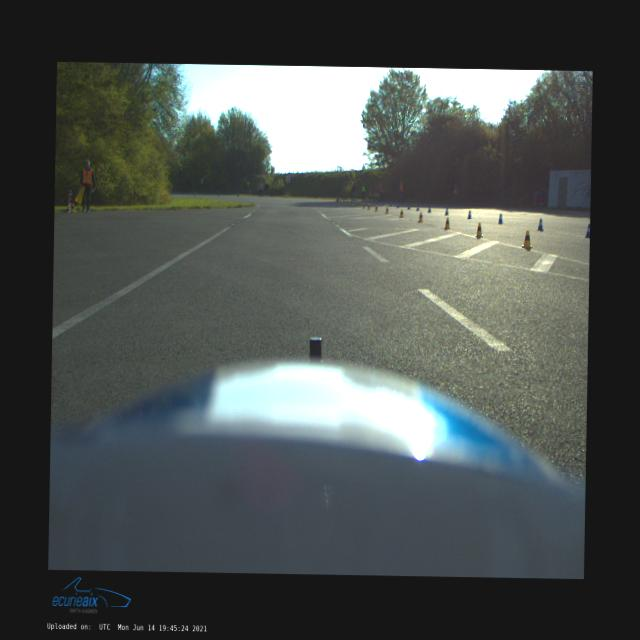blue_cone: (536, 218, 543, 230), (584, 224, 589, 237), (497, 213, 503, 223), (467, 210, 472, 218), (444, 208, 448, 215), (427, 205, 431, 212), (416, 204, 420, 210), (407, 203, 410, 209), (396, 202, 399, 208), (389, 201, 392, 206), (381, 200, 384, 205), (375, 199, 378, 204), (370, 199, 373, 204)
yellow_cone: (522, 230, 533, 248), (474, 223, 484, 237), (443, 216, 450, 228), (418, 212, 423, 222), (399, 209, 404, 218), (366, 202, 371, 210), (384, 206, 388, 213), (374, 204, 378, 211), (362, 202, 365, 208), (354, 202, 358, 206), (350, 200, 352, 205), (346, 200, 348, 204), (342, 199, 344, 203), (339, 198, 341, 202)
